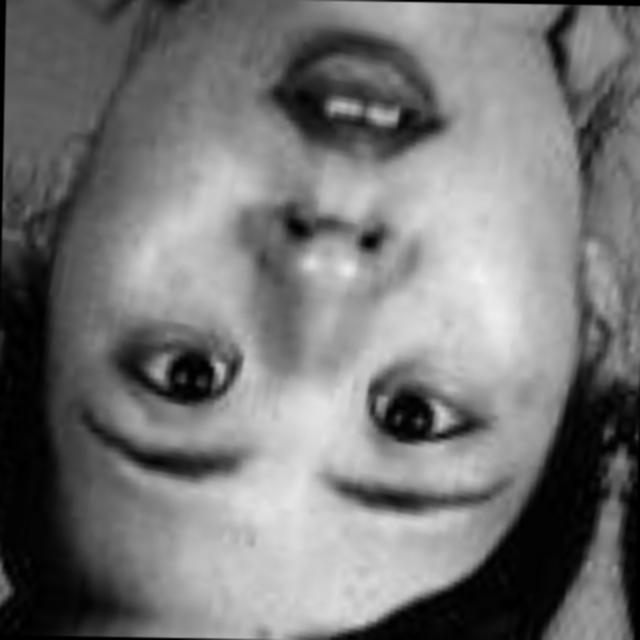fear: (80, 1, 566, 571)
